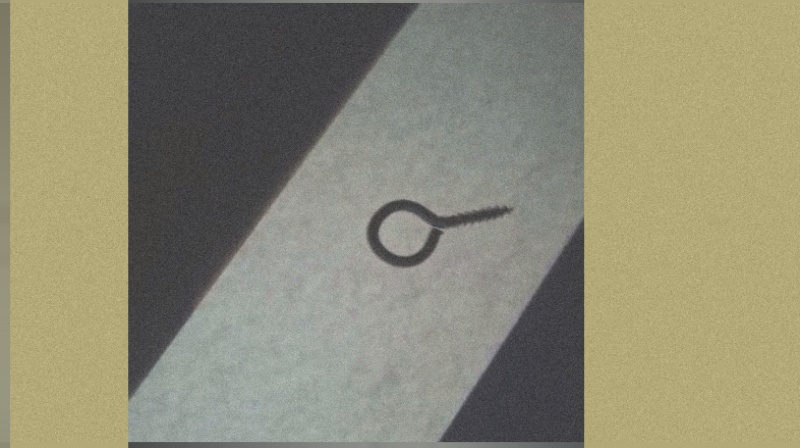O001: (362, 196, 515, 272)
